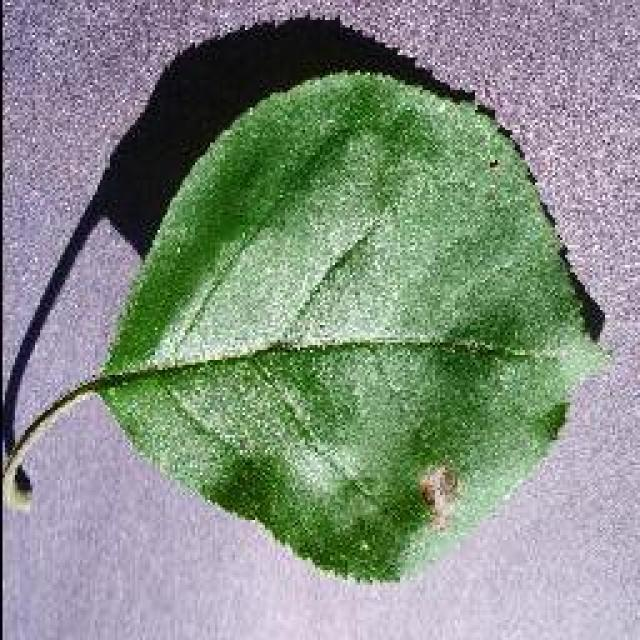apple healthy: (2, 13, 612, 585)
